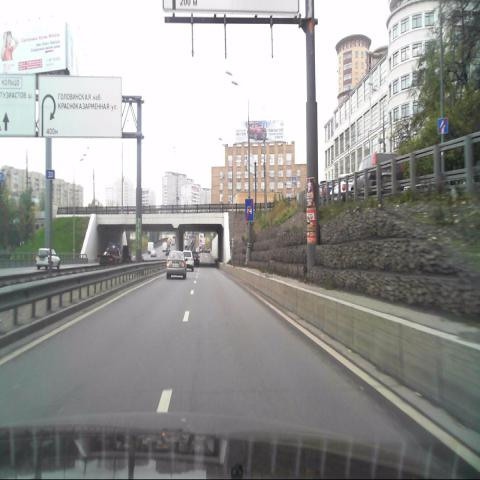5_4: (245, 197, 255, 223)
